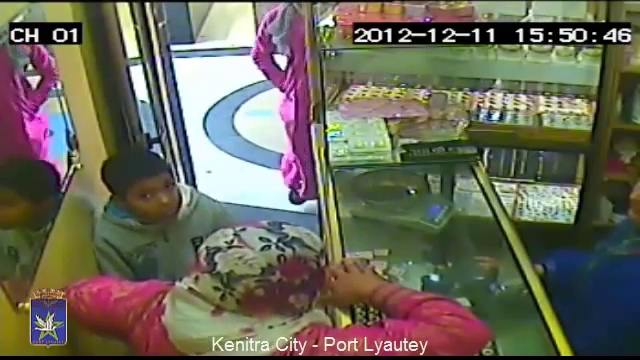face: (125, 170, 180, 222)
